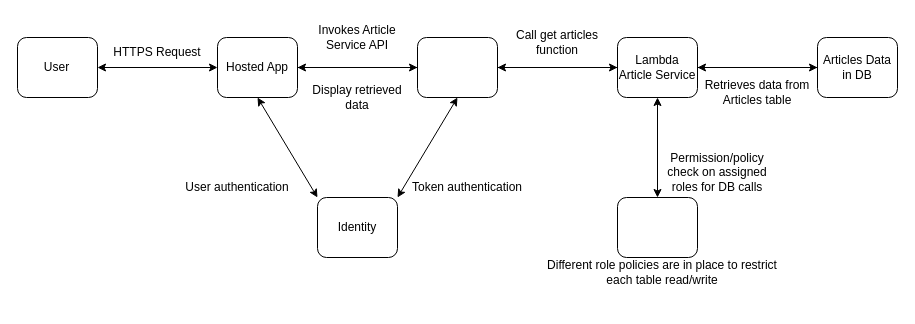
The diagram is 915 pixels wide and 324 high, and some of its shapes have lost their labels. Each missing label, with the centre of its shape:
API Gateway: point (457, 67)
Article Service Role: point (657, 227)
